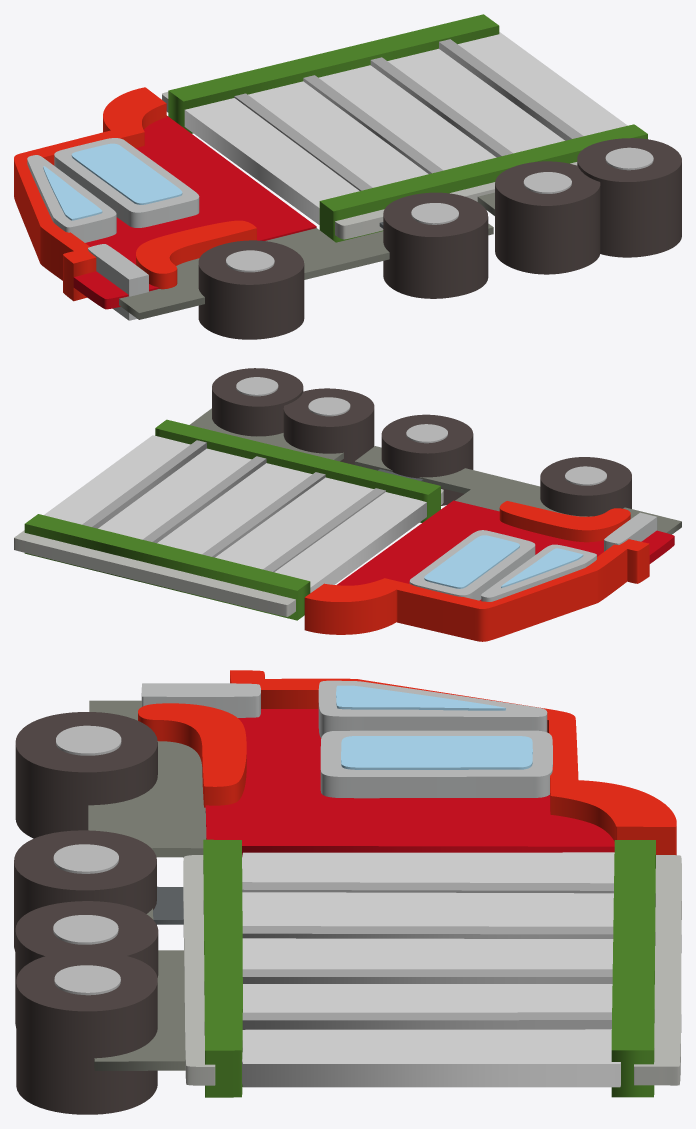
The model's file is emoji_u1f69b.glb.
3 renders of one model, top to bottom at view 1: azimuth 30°, elevation 25°; view 2: azimuth 150°, elevation 25°; view 3: azimuth 270°, elevation 25°, orthographic. The views are drawn at different scales.
Visible parts, largest first — view 1: emoji_u1f69b; view 2: emoji_u1f69b; view 3: emoji_u1f69b.
Boxes of the visible parts, bbox=[...] form: emoji_u1f69b: bbox=[14, 14, 681, 339]; emoji_u1f69b: bbox=[14, 368, 681, 641]; emoji_u1f69b: bbox=[14, 670, 681, 1114].
Bounding box in the file's own units: 0.0347 × 0.0046 × 0.0258.
